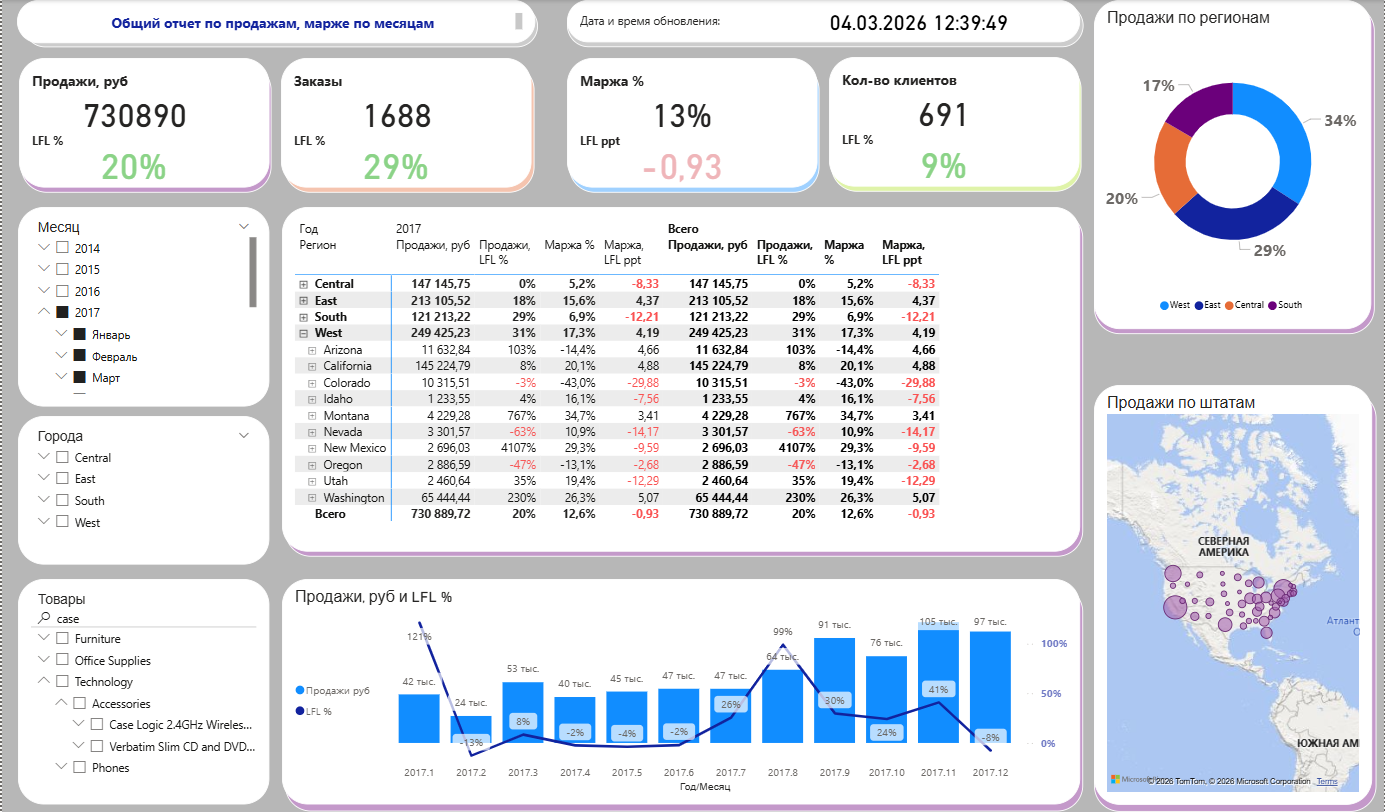

What the dashboard file says about the page in this screenshot:
{"tool":"powerbi","page":{"name":"Продажи Общие","canvas":[1600,940],"ordinal":0},"visuals":[{"type":"textbox","box":[1264.7,454.1,327.1,485.9],"z":0},{"type":"textbox","box":[327.1,245.9,923.5,398.8],"z":1000},{"type":"textbox","box":[327.1,678.8,923.5,261.2],"z":2000},{"type":"textbox","box":[1264.7,5.9,324.7,381.2],"z":3000},{"type":"textbox","box":[654.1,4.6,598.5,49.8],"z":4000},{"type":"textbox","box":[22,74.1,290,149.3],"z":5000},{"type":"textbox","box":[19.4,67.2,290,149.8],"z":6000},{"type":"pivotTable","fields":{"Values":["Sum(Продажи.Продажи, руб)","Меры.LFL % (продажи)","Меры.Маржа %","Меры.LFL PPT (Маржа)"],"Rows":["Регионы.Регион","Регионы.Штат","Регионы.Город","Регионы.Почтовый индекс"],"Columns":["Календарь.Год"]},"box":[324.7,240,923.5,398.8],"z":7000},{"type":"slicer","fields":{"Values":["Календарь.Год","Календарь.Месяц текст","Календарь.Дата"]},"box":[18.8,240,290.6,230.6],"z":8000},{"type":"slicer","fields":{"Values":["Регионы.Регион","Регионы.Штат","Регионы.Город"]},"box":[18.8,481.2,290.6,171.8],"z":9000},{"type":"card","fields":{"Values":["Меры.Продажи руб"]},"box":[38.8,107.1,228.6,47.7],"z":10000},{"type":"card","fields":{"Values":["Меры.LFL %"]},"box":[68,161.1,168,56.4],"z":11000},{"type":"textbox","box":[326.1,73.9,290,148.7],"z":12000},{"type":"textbox","box":[323.2,66.6,290,149.8],"z":13000},{"type":"card","fields":{"Values":["Меры.Кол-во заказов"]},"box":[342.7,106.5,228.6,47.7],"z":14000},{"type":"card","fields":{"Values":["Меры.LFL % (заказы)"]},"box":[371.9,160.5,168,56.4],"z":15000},{"type":"textbox","box":[656.5,73.9,290,148.7],"z":16000},{"type":"textbox","box":[653.6,66.6,290,149.8],"z":17000},{"type":"card","fields":{"Values":["Меры.Маржа %"]},"box":[673,106.5,228.6,47.7],"z":18000},{"type":"card","fields":{"Values":["Меры.Маржа PPT"]},"box":[702.3,160.5,168,56.4],"z":19000},{"type":"textbox","box":[959.8,72.7,290,148.7],"z":20000},{"type":"textbox","box":[956.9,65.4,290,149.8],"z":21000},{"type":"card","fields":{"Values":["Меры.Клиенты"]},"box":[976.4,105.3,228.6,47.7],"z":22000},{"type":"card","fields":{"Values":["Меры.LFL % (клиенты)"]},"box":[1005.6,159.3,168,56.4],"z":23000},{"type":"textbox","box":[654.1,0,593.9,48.6],"z":24000},{"type":"textbox","box":[25.5,5.3,594.7,48.9],"z":25000},{"type":"textbox","box":[17,0,600,50],"z":26000},{"type":"card","fields":{"Values":["Min(Время обновения.Дата последнего обновления)"]},"box":[889,2,344.4,45.5],"z":27000},{"type":"lineClusteredColumnComboChart","title":"Продажи, руб и LFL %","fields":{"Category":["Календарь.Год/Месяц"],"Y":["Меры.Продажи руб"],"Y2":["Меры.LFL % (продажи)"]},"box":[324.7,670.6,923.5,261.2],"z":28000},{"type":"donutChart","title":"Продажи  по регионам","fields":{"Y":["Меры.Продажи руб"],"Category":["Регионы.Регион"]},"box":[1264.7,0,321.2,381.2],"z":29000},{"type":"map","title":"Продажи по штатам","fields":{"Size":["Меры.Продажи руб"],"Category":["Регионы.Штат","Регионы.Город"]},"box":[1264.7,445.9,322.4,485.9],"z":30000},{"type":"slicer","fields":{"Values":["Товар.Категория","Товар.Подкатегория","Товар.Наименование товара","Товар.Товар ID"]},"box":[18.8,670.6,290.6,261.2],"z":31000}]}

Visuals, with their boxes in screenshot pixels (x1, y1, x2, y2), scaled from the page's 1600x940 canvas onto the 1385x812 screenshot:
textbox: (1095, 392, 1378, 811)
textbox: (283, 212, 1083, 557)
textbox: (283, 586, 1083, 811)
textbox: (1095, 5, 1376, 334)
textbox: (566, 4, 1084, 47)
textbox: (19, 64, 270, 193)
textbox: (17, 58, 268, 187)
pivotTable - Sum(Продажи.Продажи, руб) x Меры.LFL % (продажи): (281, 207, 1080, 552)
slicer - Календарь.Год x Календарь.Месяц текст: (16, 207, 268, 407)
slicer - Регионы.Регион x Регионы.Штат: (16, 416, 268, 564)
card - Меры.Продажи руб: (34, 93, 231, 134)
card - Меры.LFL %: (59, 139, 204, 188)
textbox: (282, 64, 533, 192)
textbox: (280, 58, 531, 187)
card - Меры.Кол-во заказов: (297, 92, 495, 133)
card - Меры.LFL % (заказы): (322, 139, 467, 187)
textbox: (568, 64, 819, 192)
textbox: (566, 58, 817, 187)
card - Меры.Маржа %: (583, 92, 780, 133)
card - Меры.Маржа PPT: (608, 139, 753, 187)
textbox: (831, 63, 1082, 191)
textbox: (828, 56, 1079, 186)
card - Меры.Клиенты: (845, 91, 1043, 132)
card - Меры.LFL % (клиенты): (870, 138, 1016, 186)
textbox: (566, 0, 1080, 42)
textbox: (22, 5, 537, 47)
textbox: (15, 0, 534, 43)
card - Min(Время обновения.Дата последнего обновления): (770, 2, 1068, 41)
"Продажи, руб и LFL %" lineClusteredColumnComboChart: (281, 579, 1080, 805)
"Продажи  по регионам" donutChart: (1095, 0, 1373, 329)
"Продажи по штатам" map: (1095, 385, 1374, 805)
slicer - Товар.Категория x Товар.Подкатегория: (16, 579, 268, 805)
